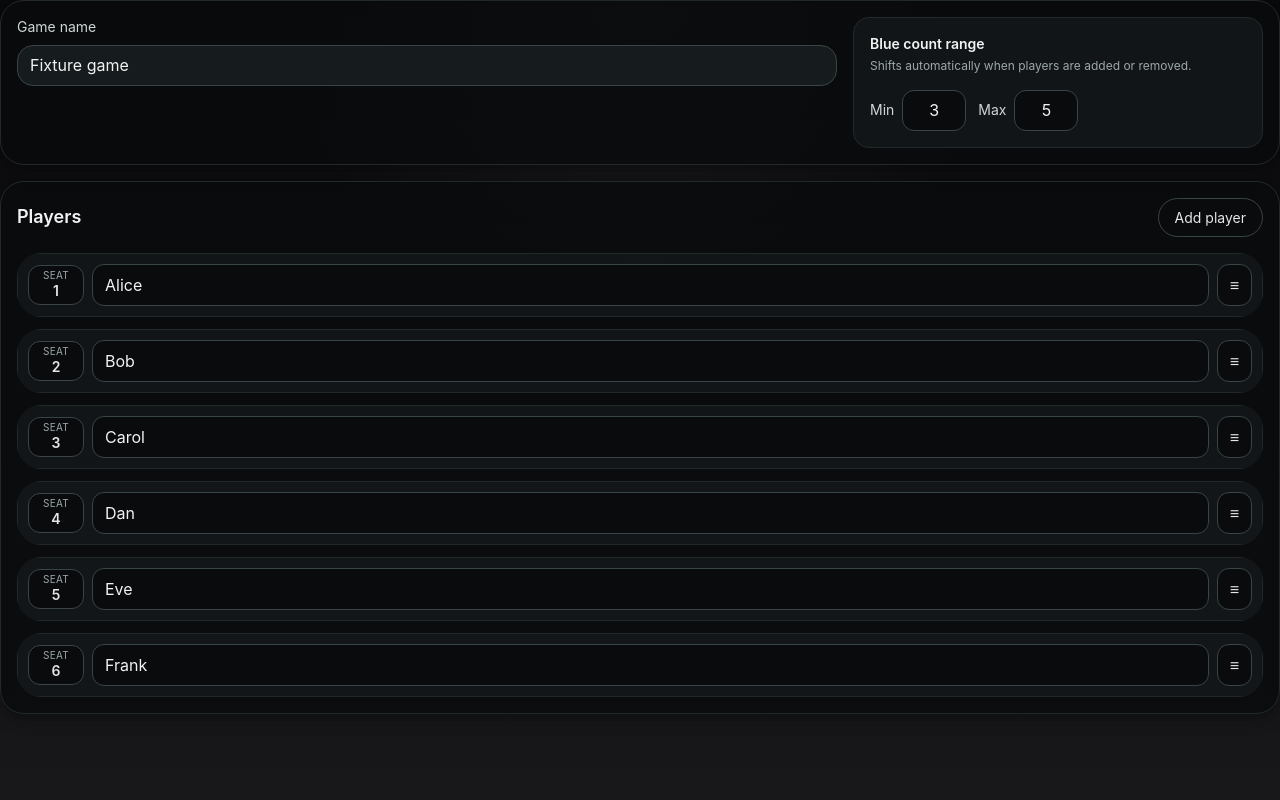
Test: SetupTab › shifts the blue range when a player is added
Click the button "Add player" at x=1210, y=217, box [1158,198,1263,237]
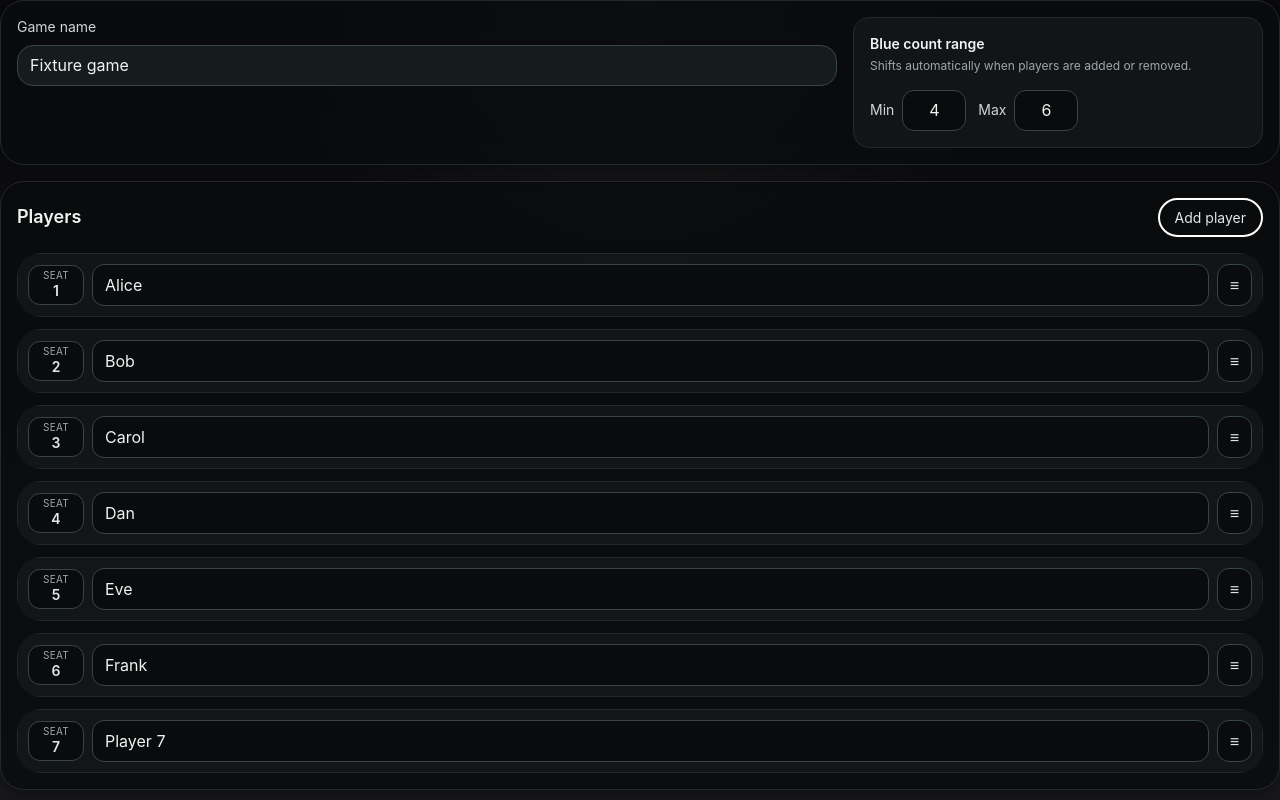
Expected: the field named "Blue count minimum" holds "4", [902,90,966,131]
Expected: the field named "Blue count maximum" holds "6", [1014,90,1078,131]
